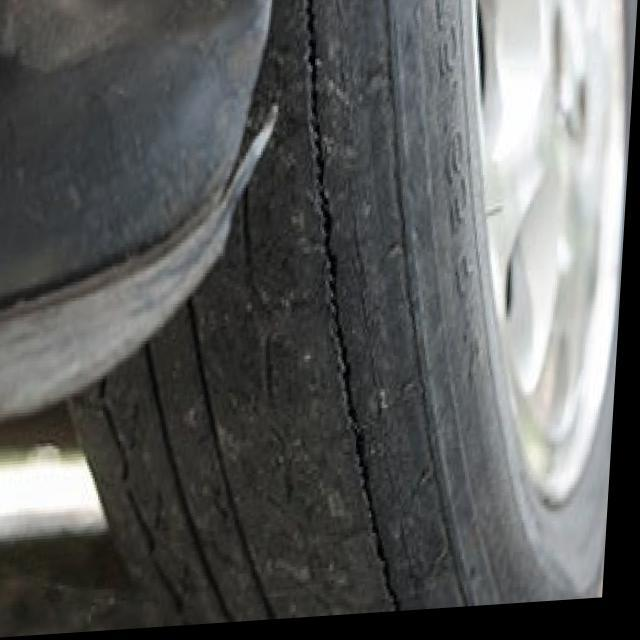Flat spots: (262, 6, 462, 616), (128, 357, 258, 608)
